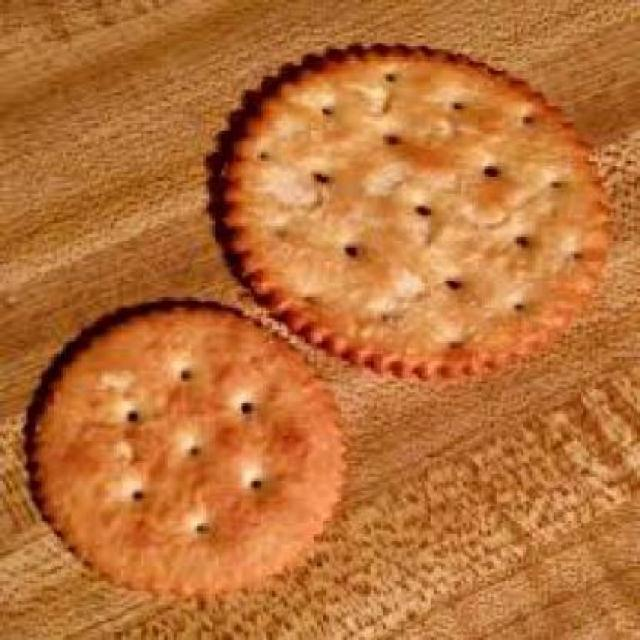Ritz cracker packaged: (18, 43, 614, 600)
